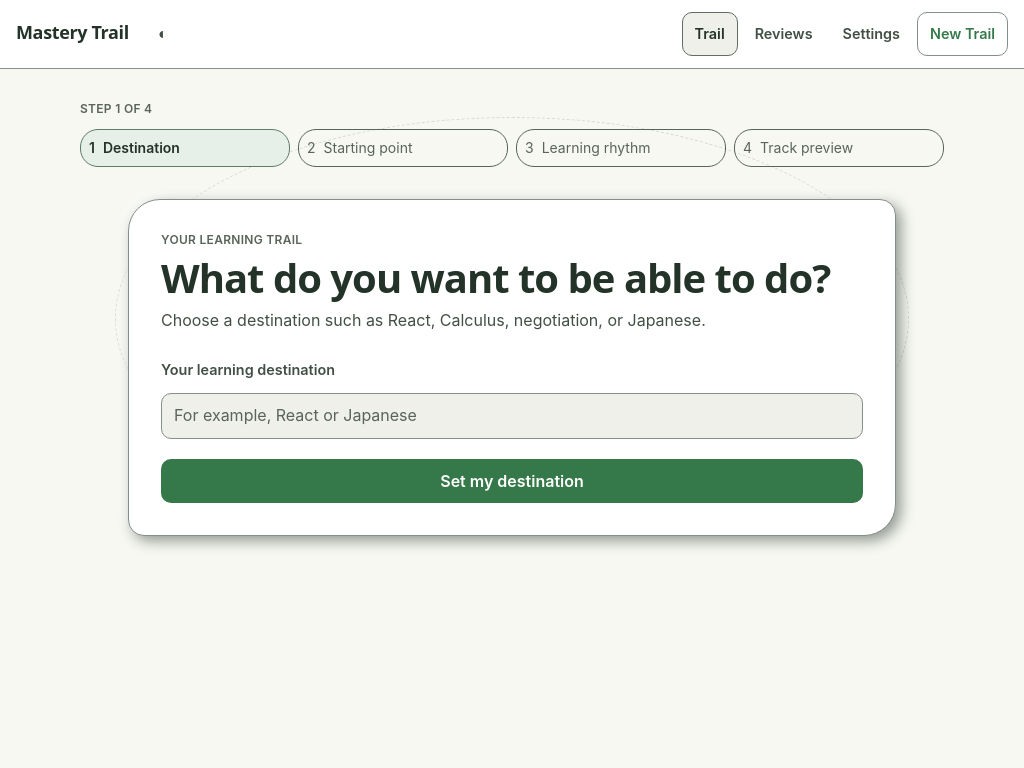
Scenario: OnboardingFlow › keeps placement preparation visible while the check is loading
In the field labelled "Your learning destination": (512, 416) 161,393 -> 863,439, type "React"
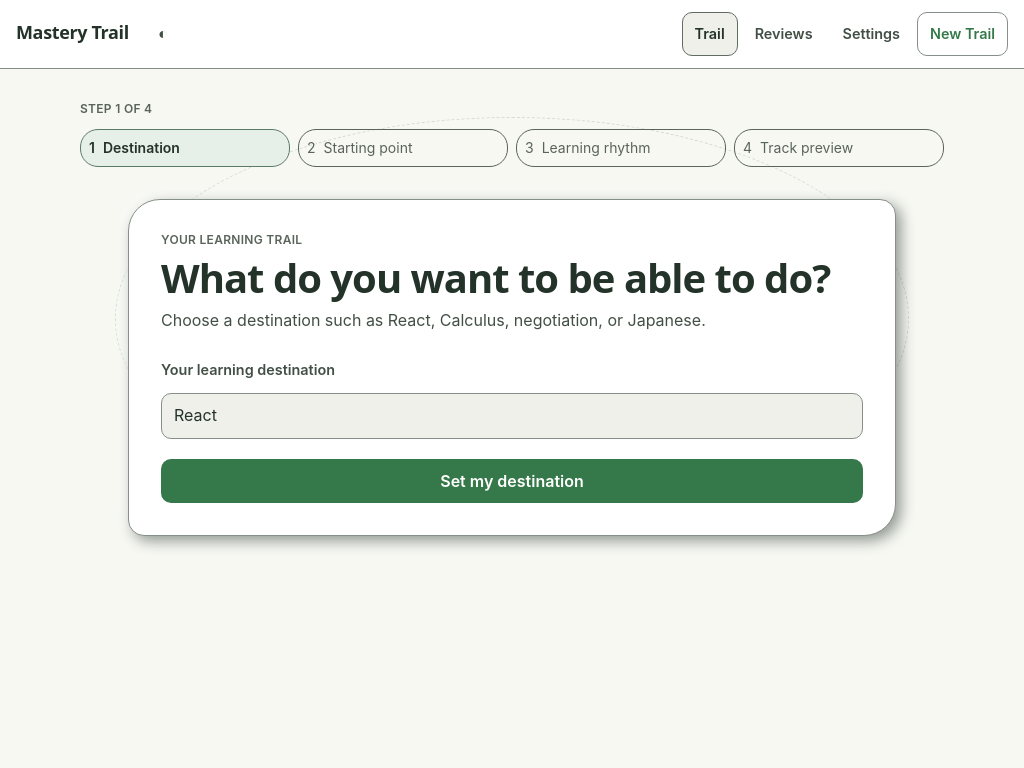
Click the button "Set my destination": (512, 481) 161,459 -> 863,503
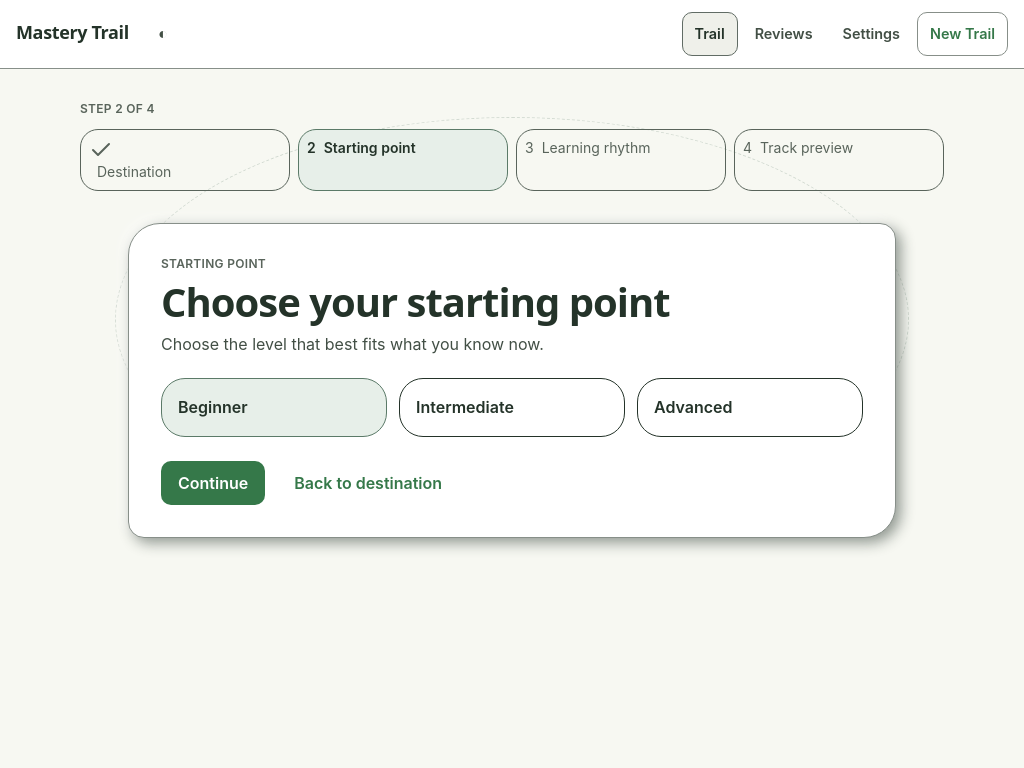
Click the button "Intermediate": (512, 407) 399,378 -> 625,437
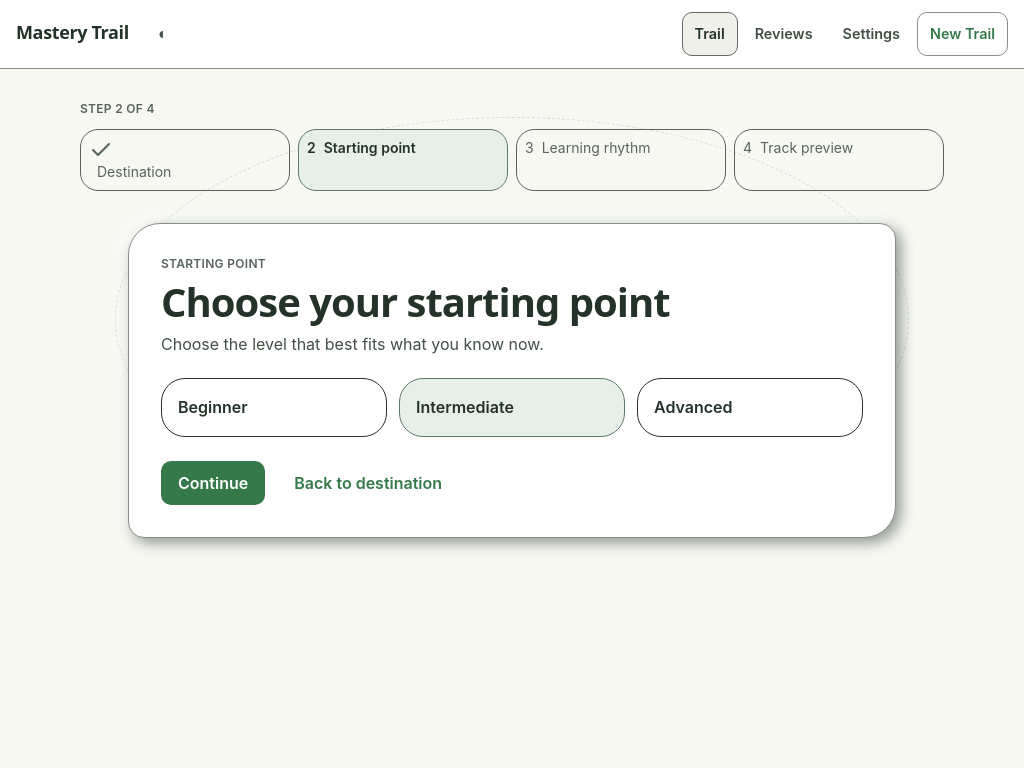
Click the button "Continue": (213, 483) 161,461 -> 265,505
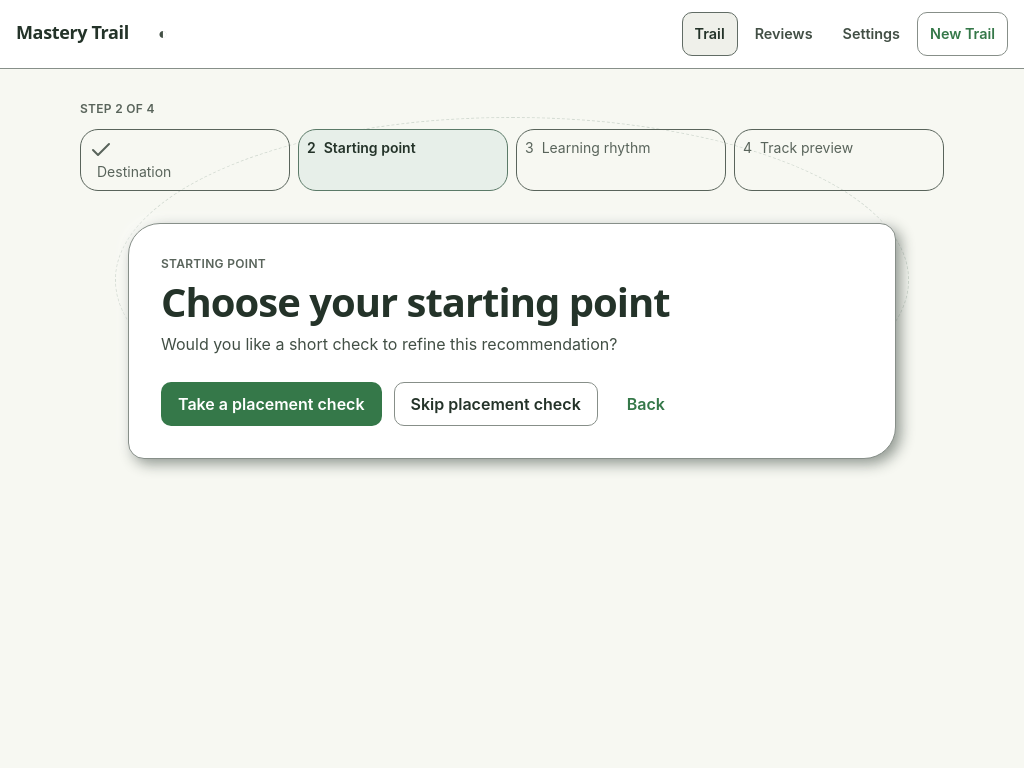
Click the button "Take a placement check": (271, 404) 161,382 -> 382,426
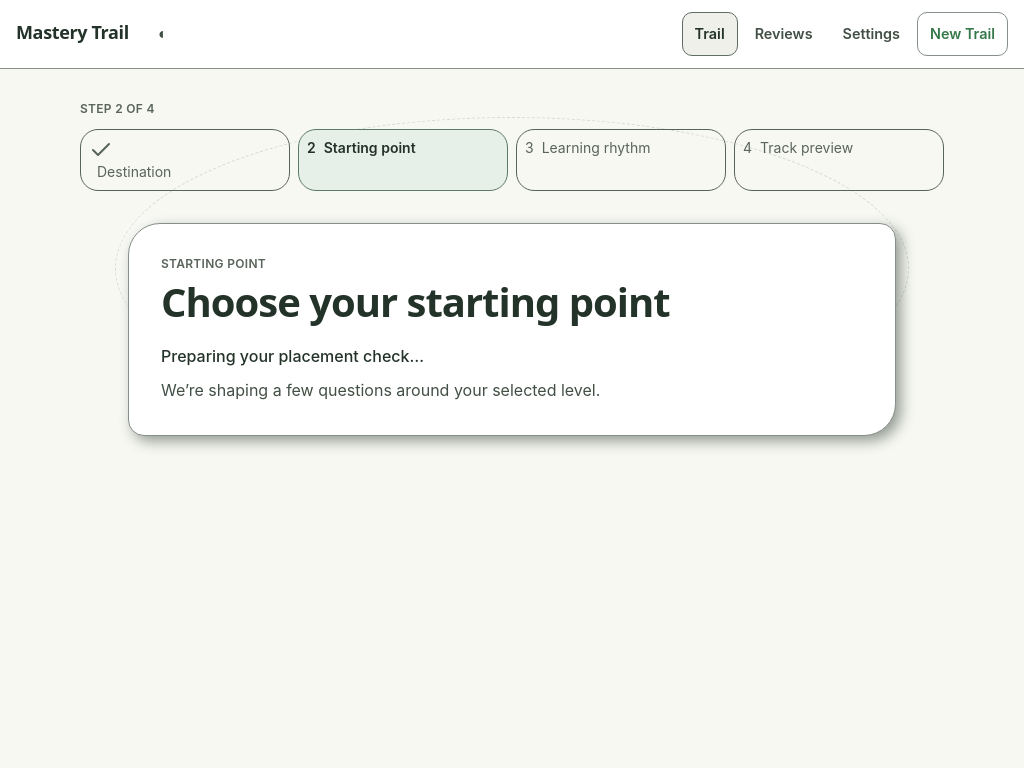
Expected: the text "Choose the level that best fits what you know now." is not shown
Now the message named "preparing placement check" is shown, box 161,346 -> 600,400
